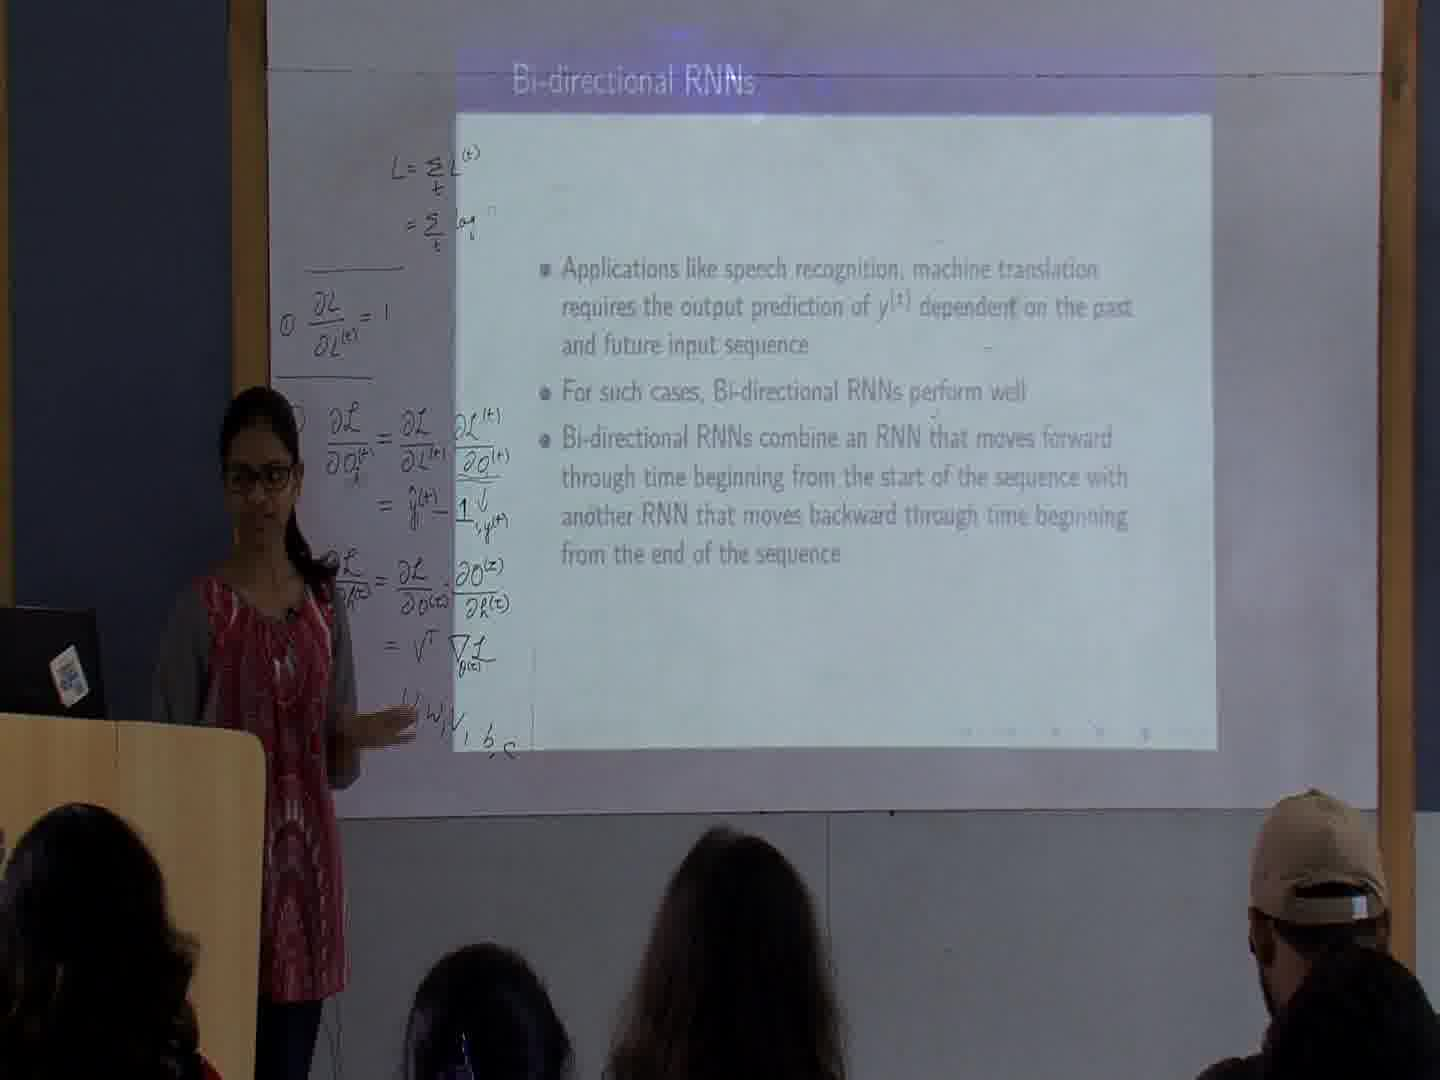slide: (454, 50, 1215, 751)
